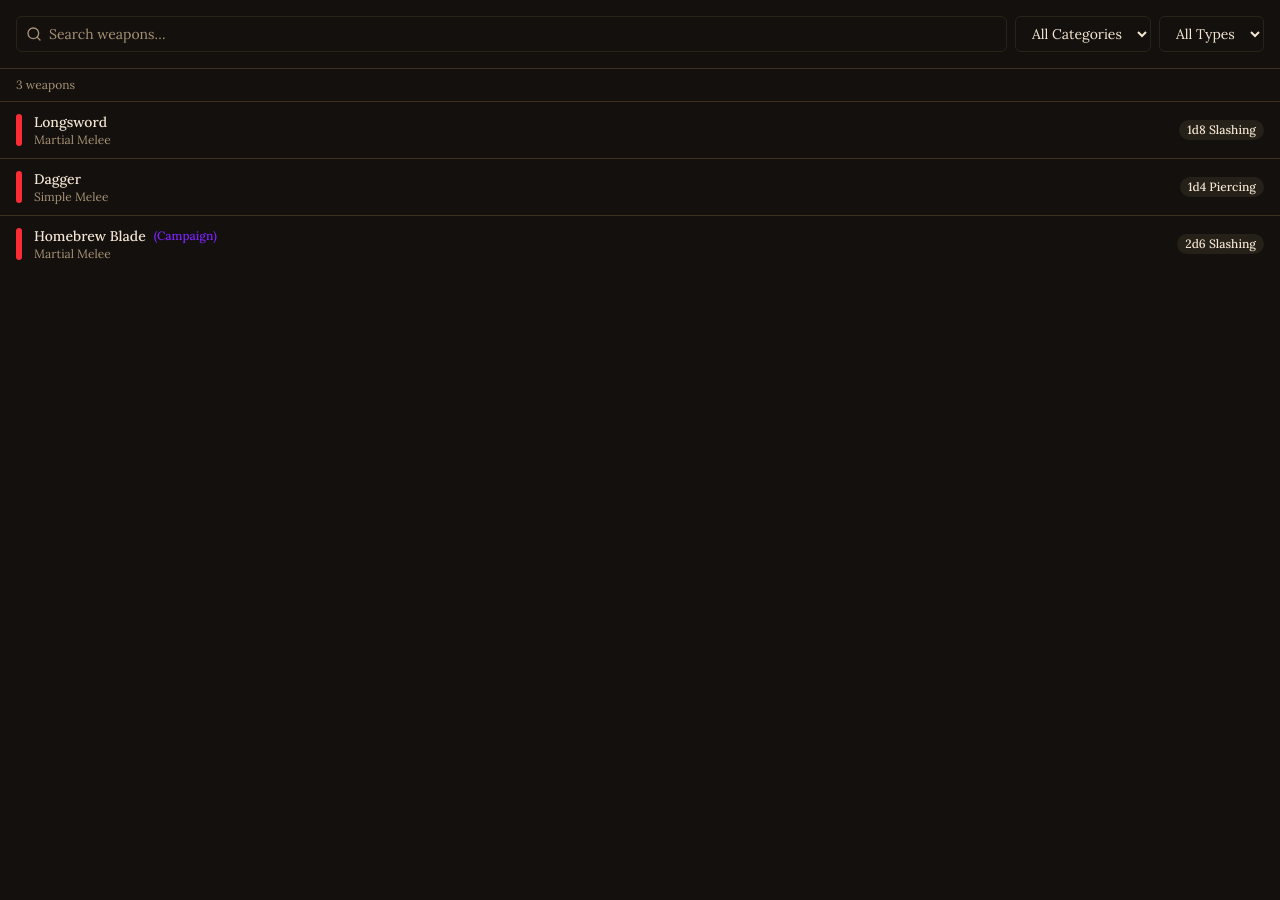
Test case: ItemsTab › explains weapon attributes in the detail dialog
This screenshot has width=1280, height=900.
Expected: the text "Longsword" is shown, [34,112,107,132]
Step 1. Click the button with test id "item-row-1" → x=71, y=122, box [0,102,1279,159]
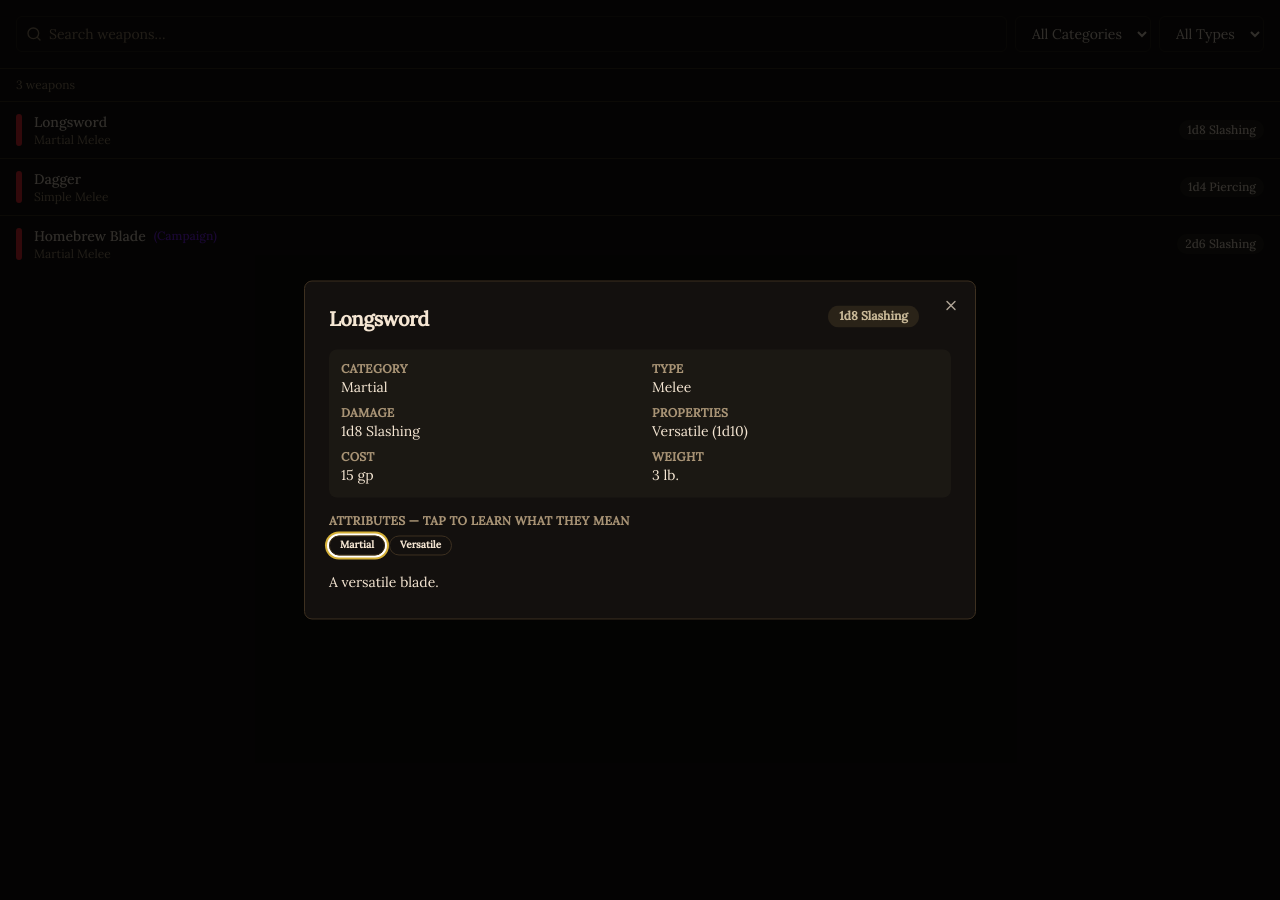
Expected: the text "Attributes — tap to learn what they mean" is shown, [329,514,630,528]
Step 2. Click the button with test id "weapon-prop-Versatile" → x=421, y=546, box [389,536,452,556]
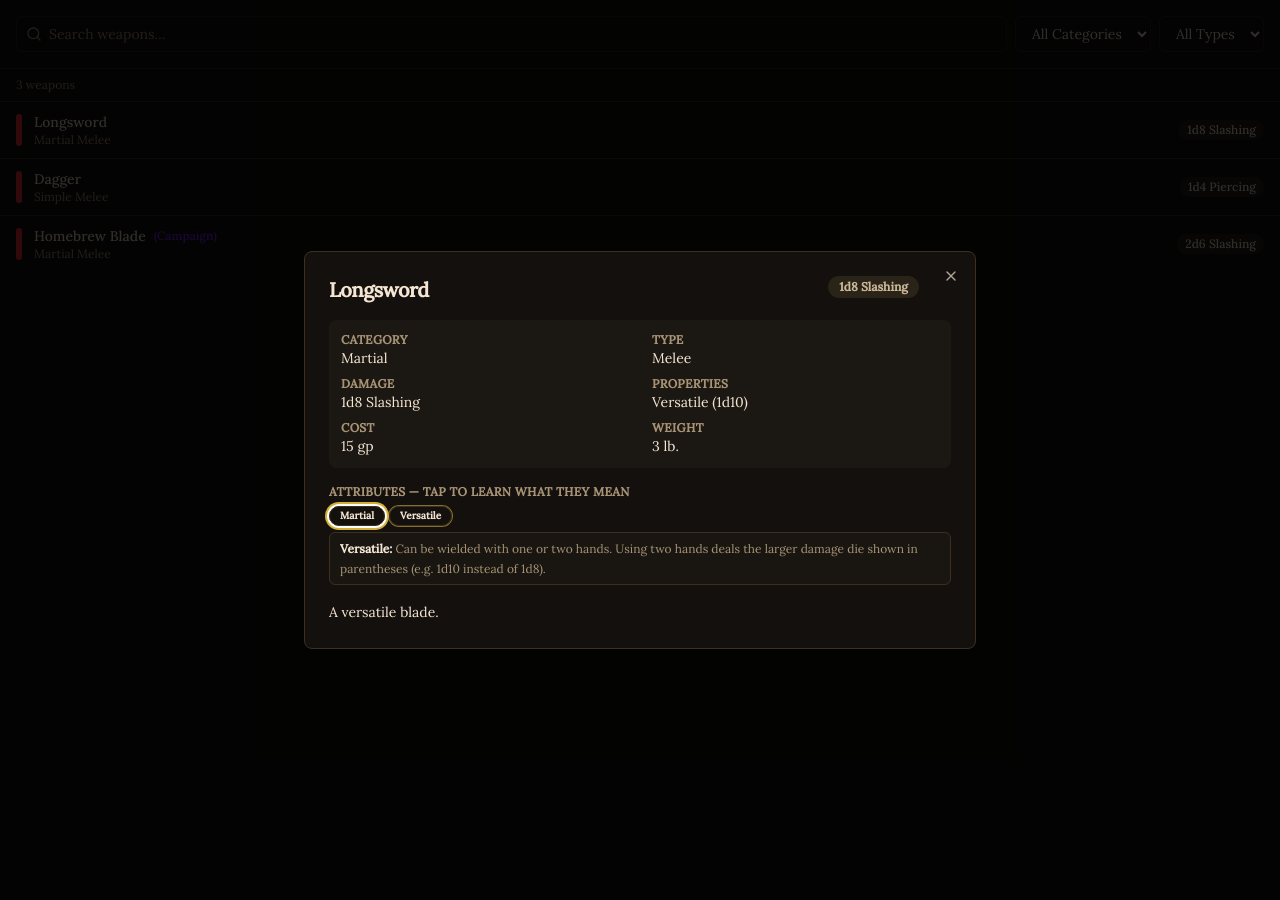
Expected: the element with test id "weapon-prop-description" shows "one or two hands", [340,541,918,576]
